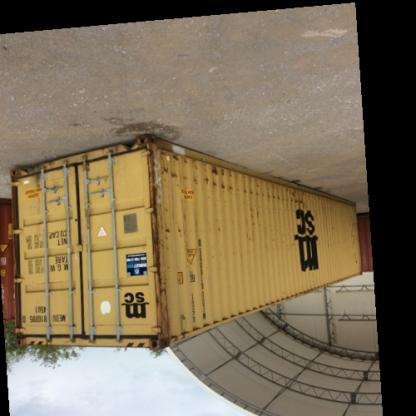Damage: (142, 140, 172, 353), (159, 173, 308, 206), (10, 157, 58, 190), (240, 204, 270, 235), (158, 221, 186, 244)
